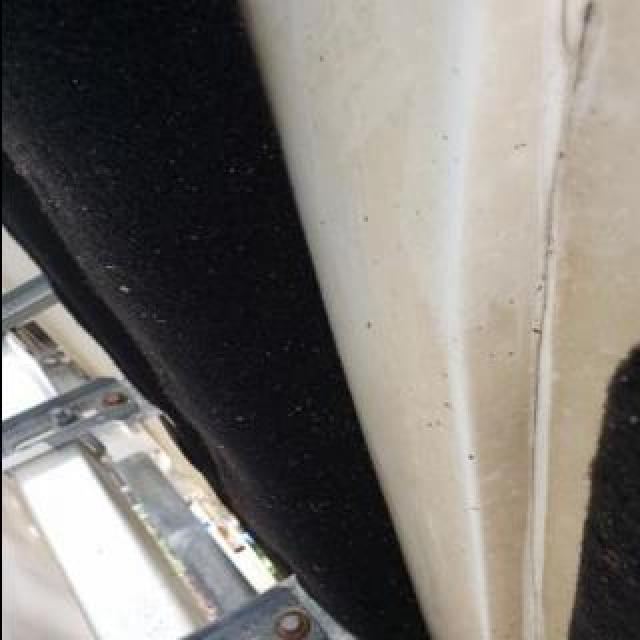crack: (526, 1, 602, 640)
